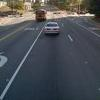Car: (41, 17, 63, 39)
